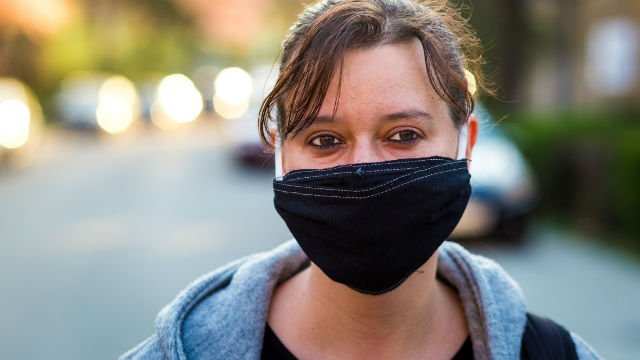with_mask: (243, 4, 508, 305)
